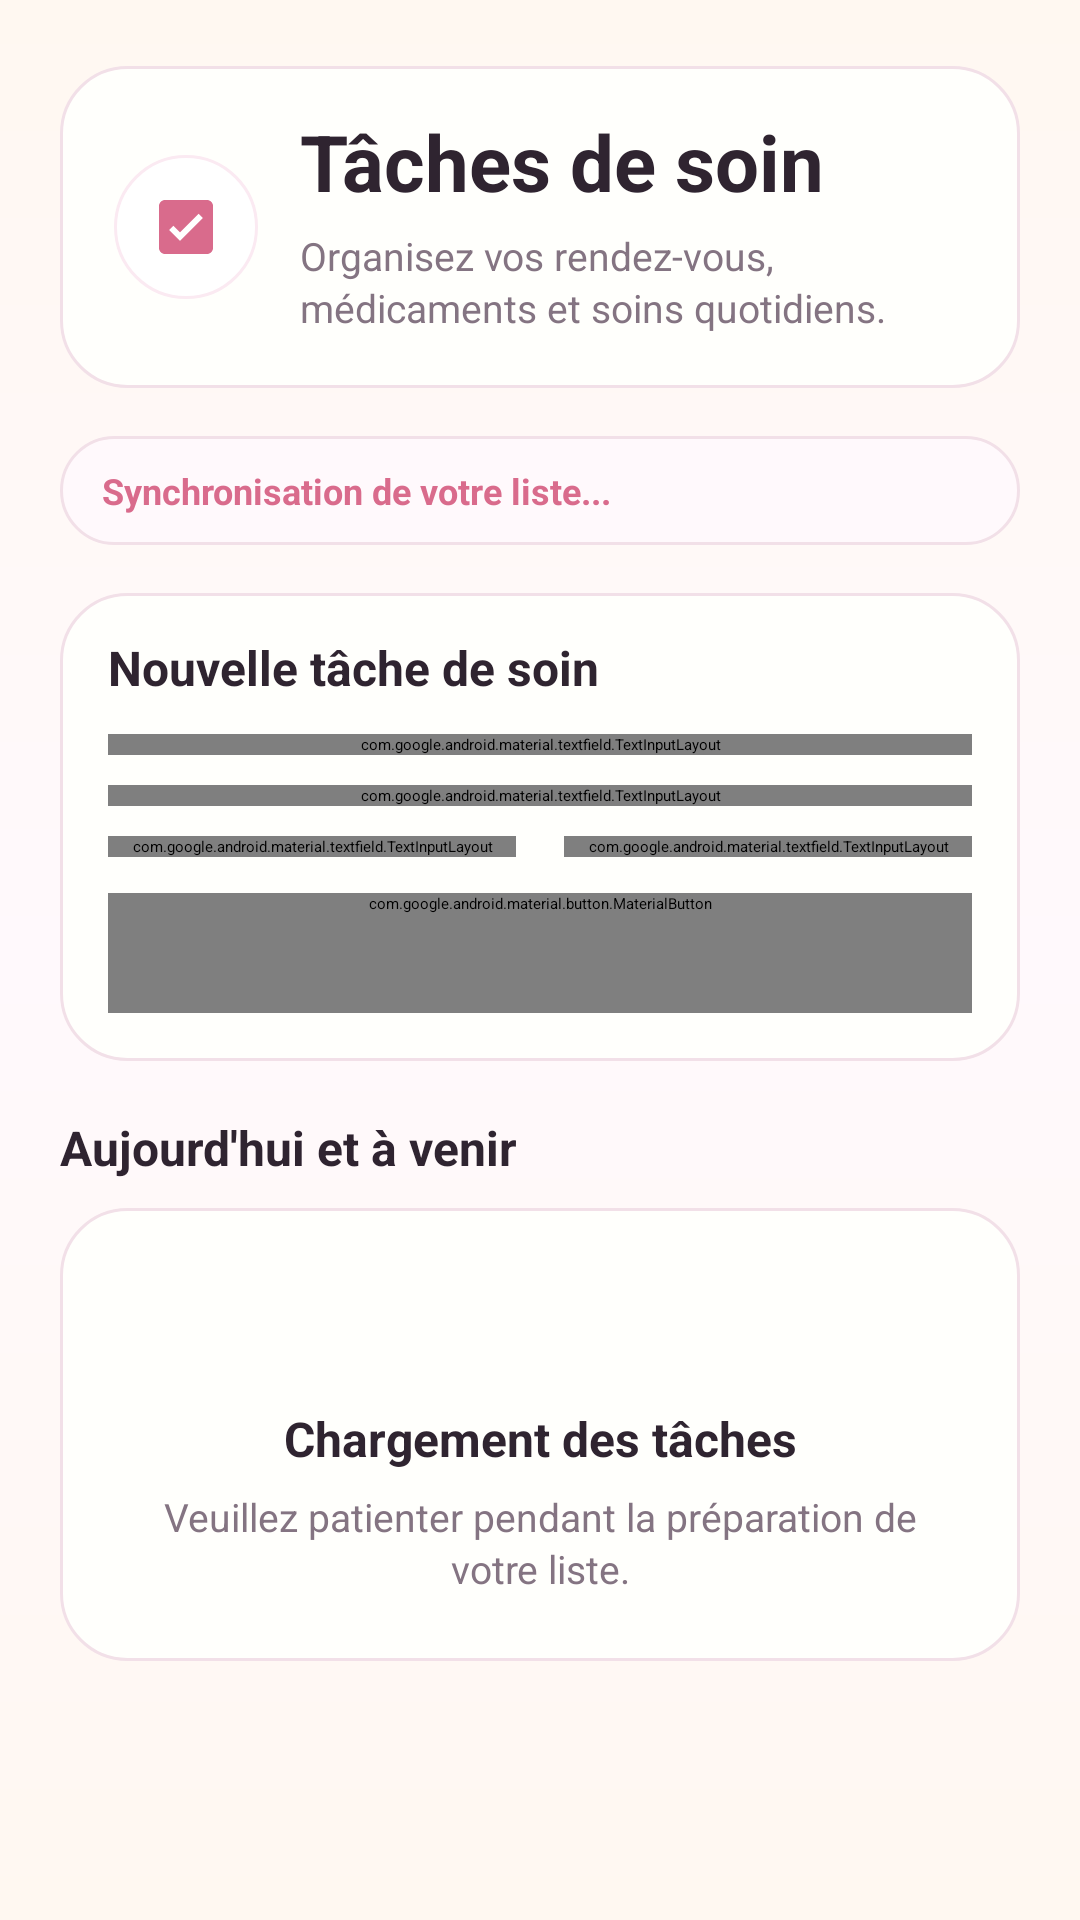

Screen size 1080px×1920px. Icon name, then its center in pixels as (x,y):
task: (186,227)
